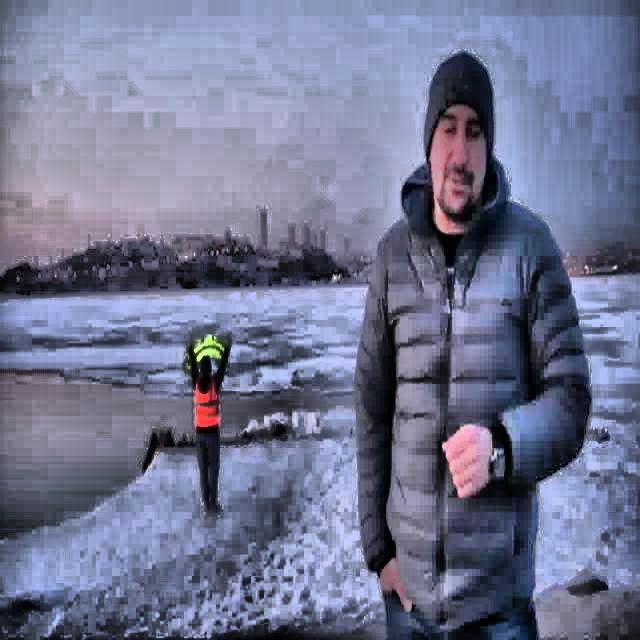safety_jacket: (185, 332, 229, 377), (193, 374, 220, 430)
